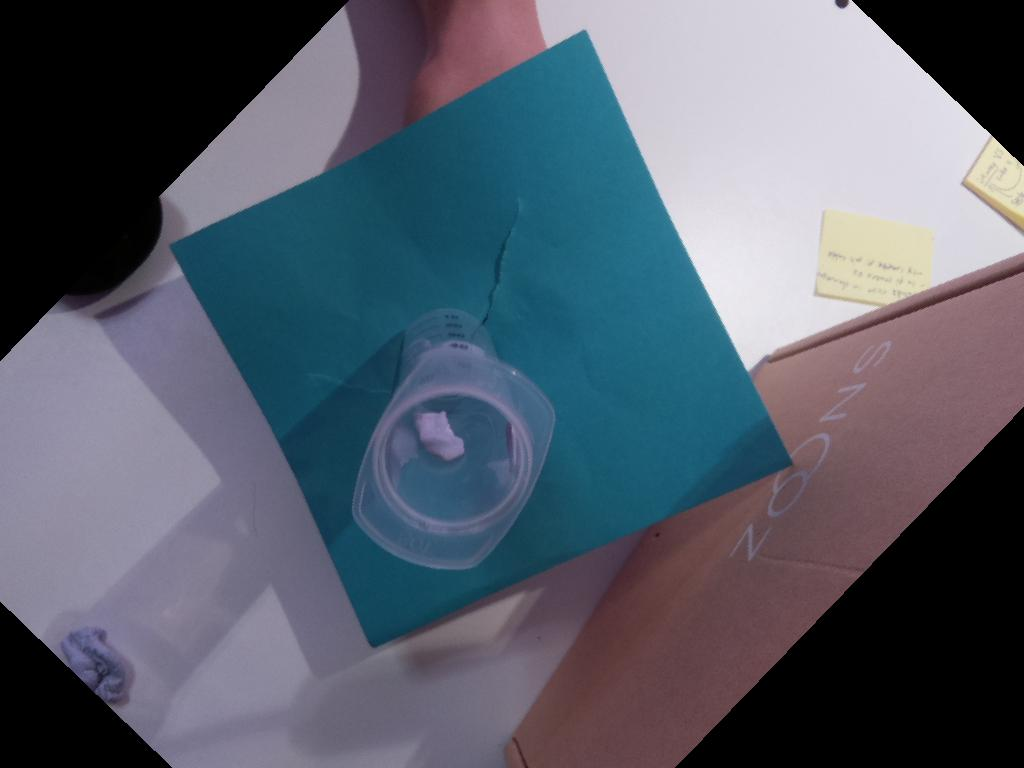dirty: (350, 348, 554, 569)
